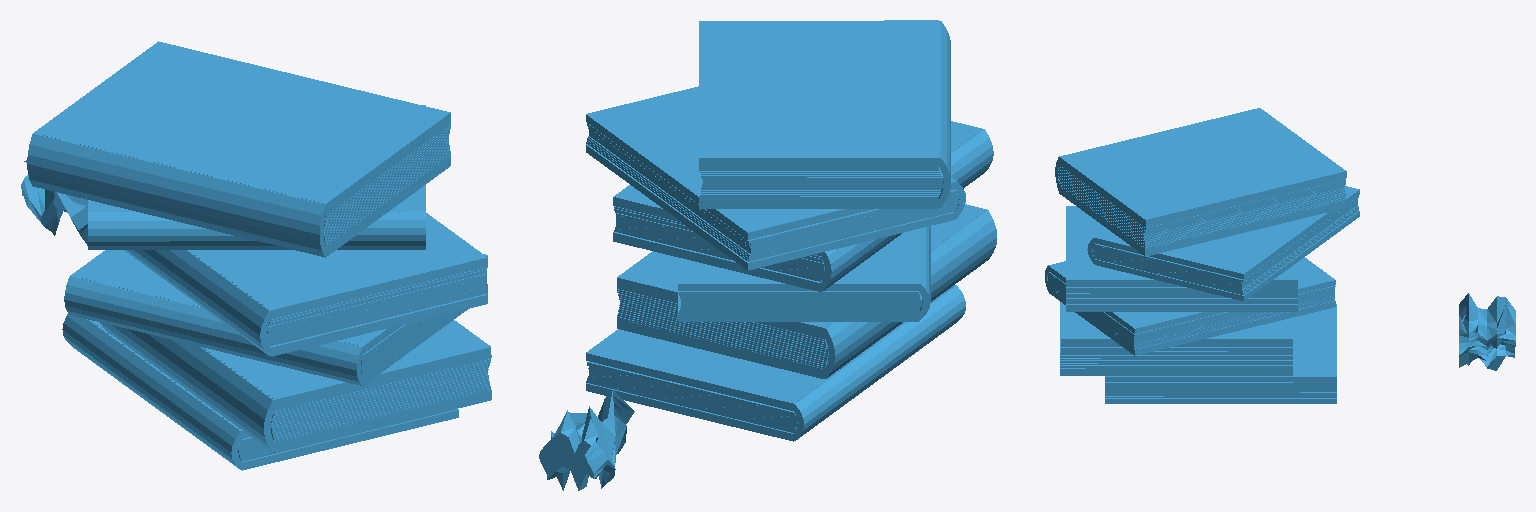
The robot description file, URDF, robot "book":
<?xml version="0.0" ?>
<robot name="book">

  <link name="base_link">
    <inertial>
      <origin rpy="0 0 0" xyz="0 0 0"/>
       <mass value=".0"/>
       <inertia ixx="0" ixy="0" ixz="0" iyy="0" iyz="0" izz="0"/>
    </inertial>
  </link>

  <link name="obj">
    <inertial>
      <origin rpy="0 0 0" xyz="0 0 0"/>
       <mass value=".0"/>
       <inertia ixx="0" ixy="0" ixz="0" iyy="0" iyz="0" izz="0"/>
    </inertial>
    <visual>
      <origin rpy="1.57 0 0" xyz="0 0 0"/>
      <geometry>
        <mesh filename="package://uwds3/models/cad_models/obj/books.obj" scale="0.003 0.003 0.003"/>
      </geometry>


    </visual>
  </link>

  <joint name="base_to_obj" type="revolute">
    <parent link="base_link"/>
    <child link="obj"/>
    <axis xyz="0 0 1"/>
    <limit effort="1000.0" lower="0.0" upper="1.57" velocity="0.5"/>
    <origin rpy="0 0 0" xyz="0 0 0"/>
  </joint>




</robot>

--- Facts derived from the render (not from the file) ---
Views: 3 orthographic renders of the robot side by side, from view 1: azimuth 30°, elevation 25°; view 2: azimuth 150°, elevation 25°; view 3: azimuth 270°, elevation 25°.
Robot: book — 2 links, 1 joints (1 revolute); root link base_link; default pose: every joint at zero.
Visible links, largest first — view 1: obj; view 2: obj; view 3: obj.
Boxes of the visible links, <box> form: obj: <box>21,41,491,470</box>; obj: <box>539,20,996,490</box>; obj: <box>1045,108,1515,403</box>.
Size in the robot's own frame: 0.2189 by 0.3332 by 0.1495 metres.
Meshes: 1 distinct files referenced, 1 mesh visuals loaded (1 OBJ).